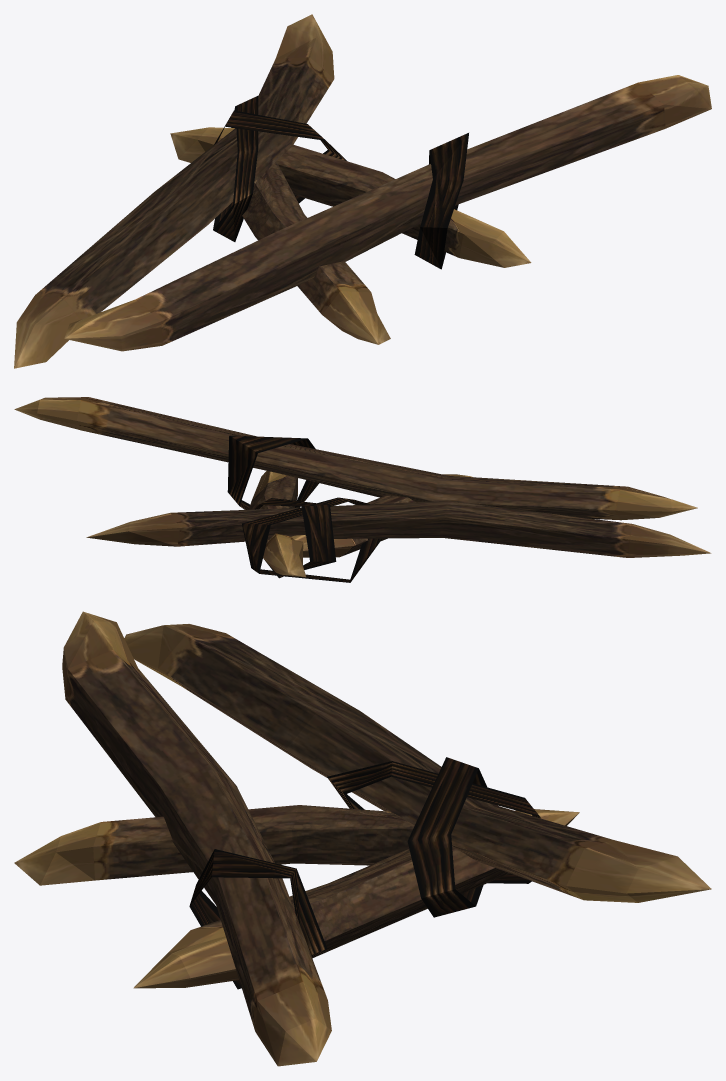
Rendered from lava_wallstair_convex_01.fbx.
3 views of the same model, one above another, from view 1: azimuth 30°, elevation 25°; view 2: azimuth 150°, elevation 25°; view 3: azimuth 270°, elevation 25° (orthographic). The views are drawn at different scales.
Parts seen in each view (by area): view 1: obj0.141; view 2: obj0.141; view 3: obj0.141.
Boxes of the visible parts, x1,y1,x2,y2 form: obj0.141: (14,14,711,368); obj0.141: (14,397,711,582); obj0.141: (14,611,711,1066).
Bounding box in the file's own units: 5.06 × 0.741 × 3.11.
